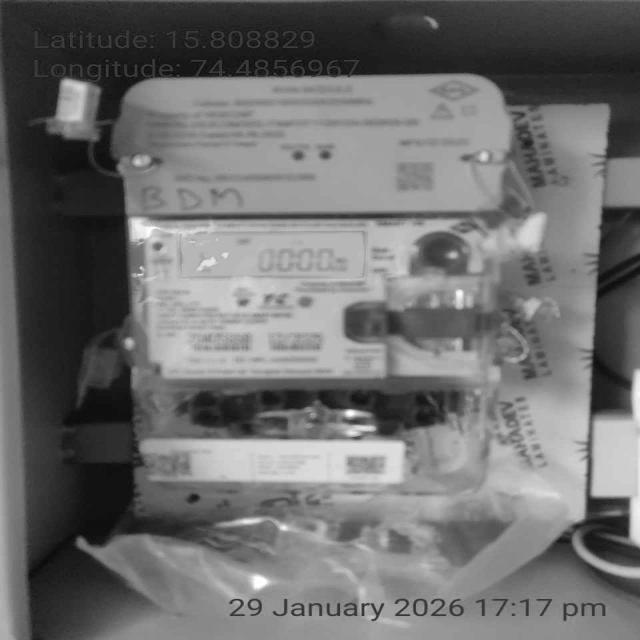meter: (116, 78, 507, 382)
